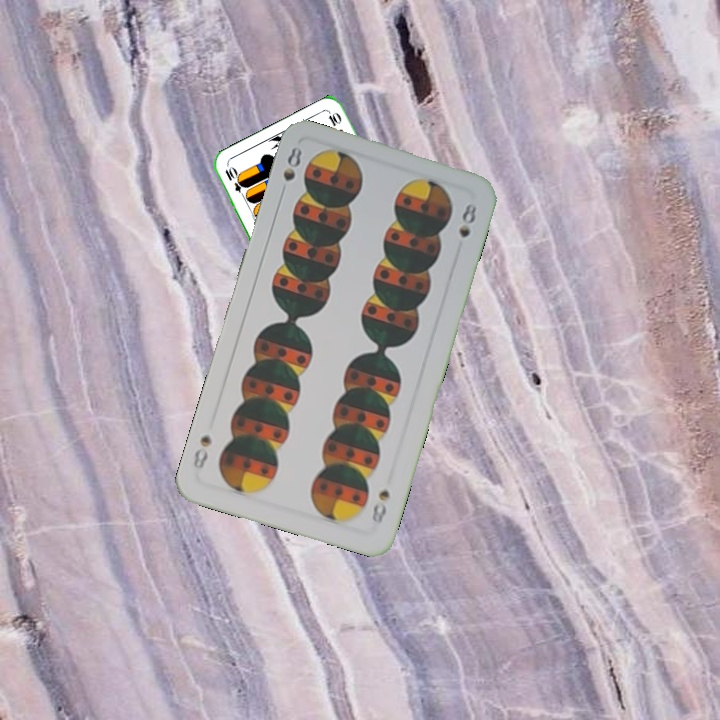E10: (221, 162, 249, 201)
S8: (367, 485, 393, 528), (278, 143, 305, 184)
